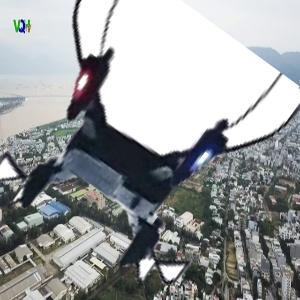drone: (1, 1, 275, 275)
